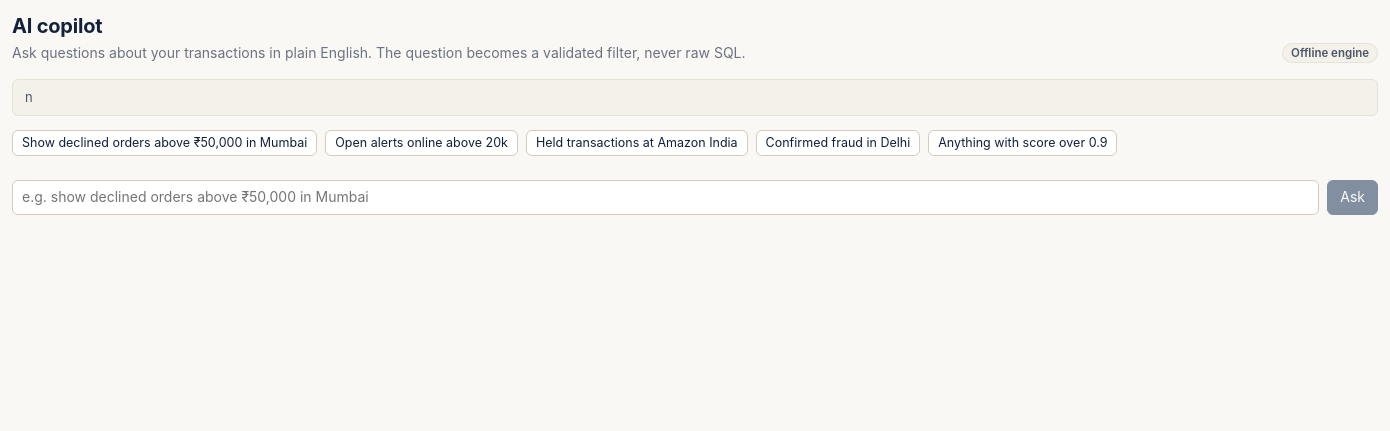
Test: AI copilot › sends a question and shows the interpreted filter and matching rows
Step 1. Type "declined orders" into the field named "ask a question" → (666, 197), box left=12, top=180, right=1319, bottom=215
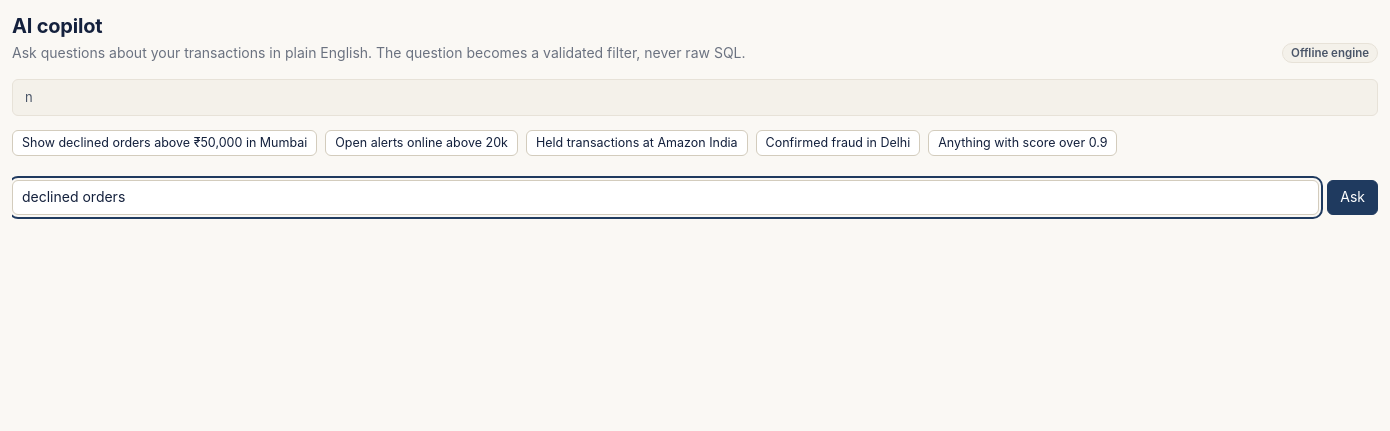
Step 2. Click the button "Ask" → (1353, 197), box left=1327, top=180, right=1378, bottom=215
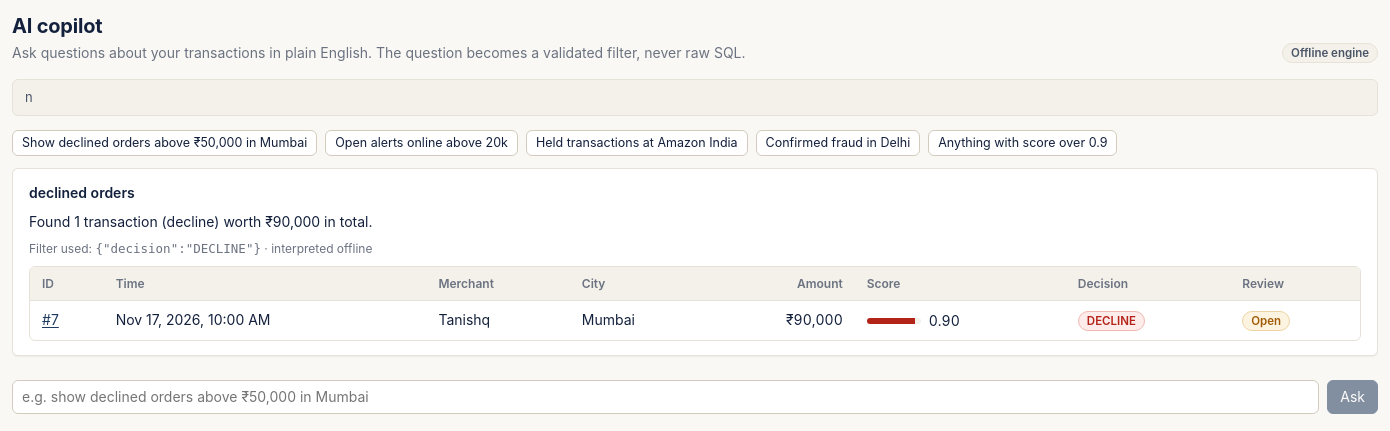
Expected: the text "Found 1 transaction (decline) worth ₹90,000 in total." is shown, left=29, top=213, right=372, bottom=230
Expected: the text "Tanishq" is shown, left=426, top=301, right=570, bottom=340
